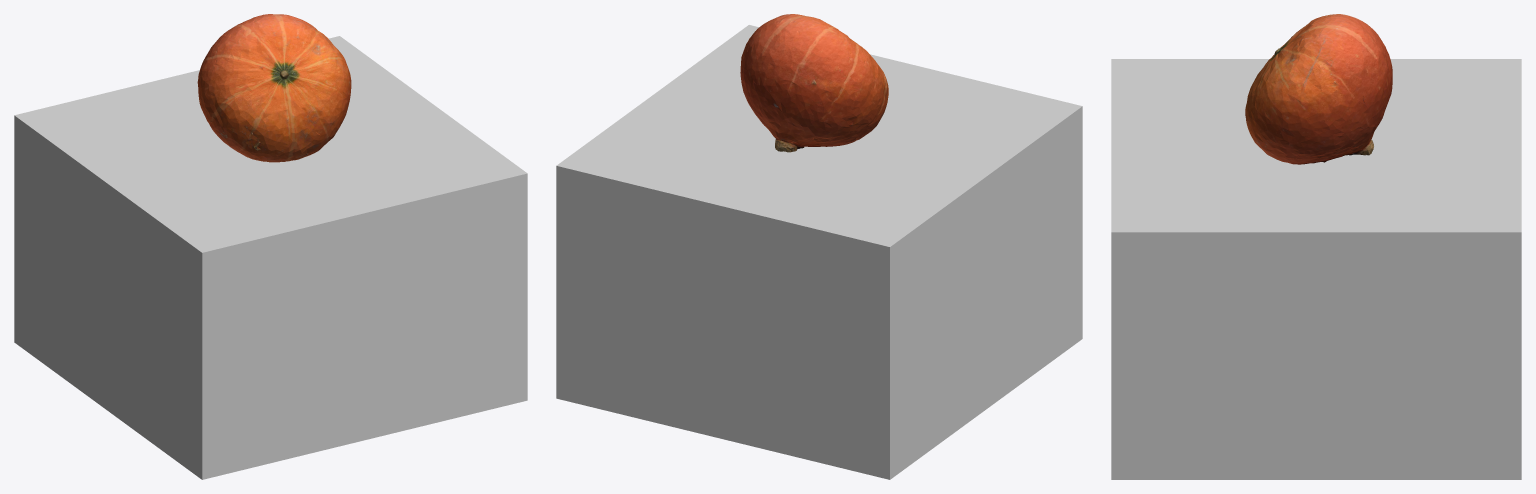
Rendered from kuerbis-gltf.glb.
The picture shows the model from 3 angles, left to right: view 1: azimuth 30°, elevation 25°; view 2: azimuth 150°, elevation 25°; view 3: azimuth 270°, elevation 25°; orthographic projection. The views are drawn at different scales.
Parts seen in each view (by area): view 1: Cube, texturedMesh; view 2: Cube, texturedMesh; view 3: Cube, texturedMesh.
Part boxes in pixels (bbox=[...]): Cube: bbox=[14, 36, 527, 479]; texturedMesh: bbox=[197, 14, 351, 162]; Cube: bbox=[556, 25, 1082, 479]; texturedMesh: bbox=[740, 14, 888, 152]; Cube: bbox=[1111, 59, 1521, 479]; texturedMesh: bbox=[1245, 14, 1392, 164].
Size of the model in its own units: 1.5 by 1.52 by 1.5.
2 materials, 1 textured.
